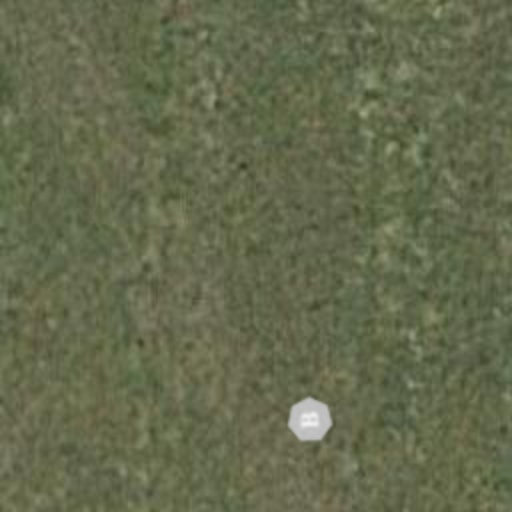heptagon: (286, 396, 334, 444)
